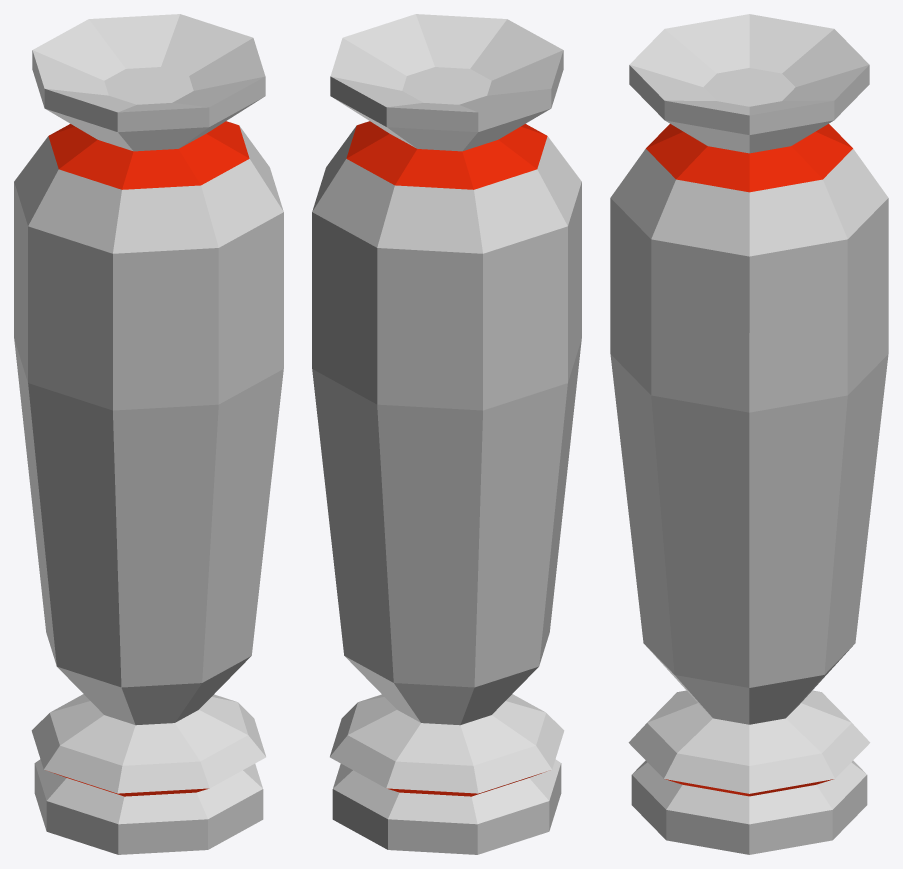
Rendered from jar.fbx.
3 views of the same model, side by side, from view 1: azimuth 30°, elevation 25°; view 2: azimuth 150°, elevation 25°; view 3: azimuth 270°, elevation 25° (orthographic).
Visible parts, largest first — view 1: 円; view 2: 円; view 3: 円.
Boxes of the visible parts, x1=… form: 円: x1=14, y1=14, x2=283, y2=854; 円: x1=312, y1=14, x2=581, y2=854; 円: x1=610, y1=14, x2=888, y2=854.
Bounding box in the file's own units: 236 × 694 × 236.
